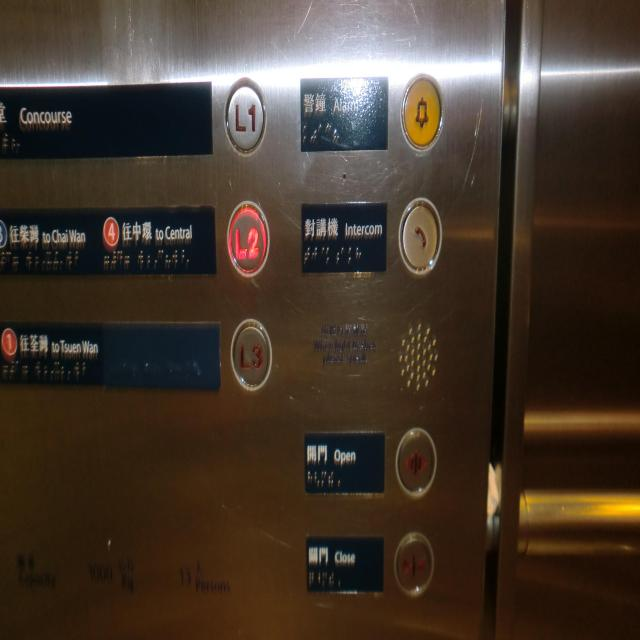L1: (224, 76, 267, 156)
L2: (226, 200, 270, 277)
L3: (230, 318, 273, 391)
alarm: (400, 72, 444, 153)
call: (398, 197, 442, 275)
close: (394, 531, 434, 597)
open: (395, 428, 438, 498)
